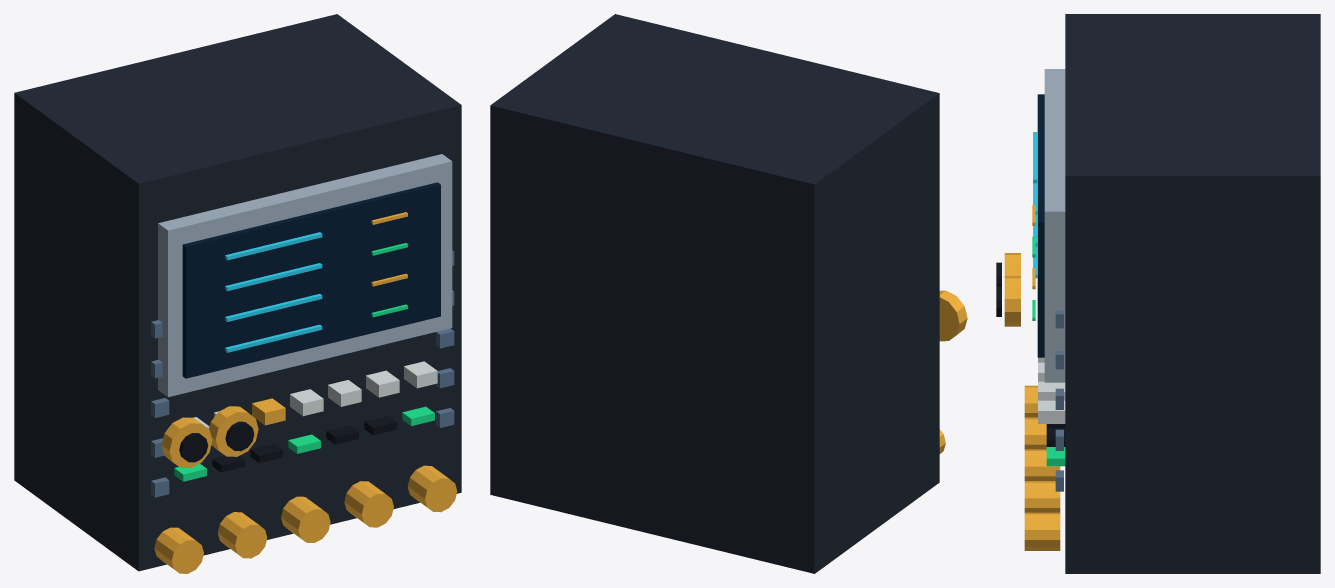
File: 33_L86_InverseKinematicsSolverDisplay.fbx
3 views of the same model, side by side, from view 1: azimuth 30°, elevation 25°; view 2: azimuth 150°, elevation 25°; view 3: azimuth 270°, elevation 25° (orthographic). The views are drawn at different scales.
Visible parts, largest first — view 1: L86_InverseKinematicsSolverDisplay, L86_InverseKinematicsSolverDisplay_Part_0009, L86_InverseKinematicsSolverDisplay_Part_0011, L86_InverseKinematicsSolverDisplay_Part_0010, L86_InverseKinematicsSolverDisplay_Part_0012; view 2: L86_InverseKinematicsSolverDisplay, L86_InverseKinematicsSolverDisplay_Part_0009; view 3: L86_InverseKinematicsSolverDisplay, L86_InverseKinematicsSolverDisplay_Part_0011.
Part boxes in pixels (left/top/right/bottom): L86_InverseKinematicsSolverDisplay: left=14, top=14, right=461, bottom=573; L86_InverseKinematicsSolverDisplay_Part_0009: left=161, top=417, right=212, bottom=468; L86_InverseKinematicsSolverDisplay_Part_0011: left=209, top=406, right=258, bottom=456; L86_InverseKinematicsSolverDisplay_Part_0010: left=179, top=433, right=208, bottom=462; L86_InverseKinematicsSolverDisplay_Part_0012: left=225, top=421, right=254, bottom=451; L86_InverseKinematicsSolverDisplay: left=490, top=14, right=945, bottom=573; L86_InverseKinematicsSolverDisplay_Part_0009: left=939, top=290, right=967, bottom=341; L86_InverseKinematicsSolverDisplay: left=1024, top=14, right=1320, bottom=573; L86_InverseKinematicsSolverDisplay_Part_0011: left=1004, top=276, right=1020, bottom=326.
Size of the model in its own units: 97.92 by 112 by 82.84.
